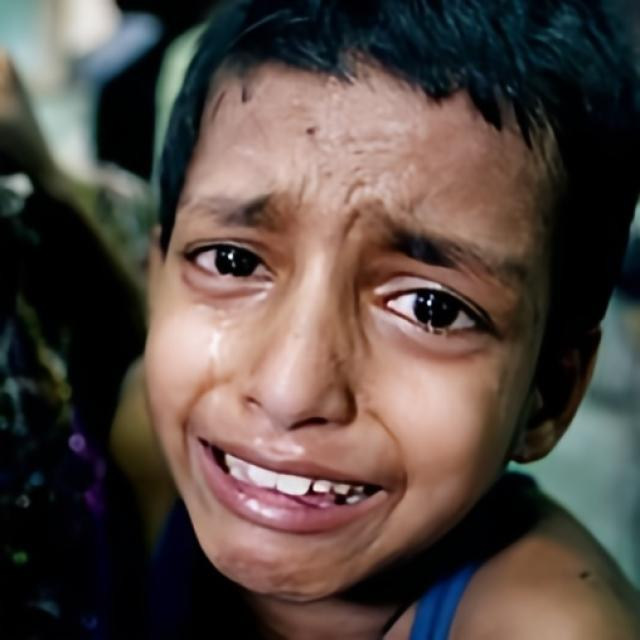sad: (142, 64, 552, 610)
